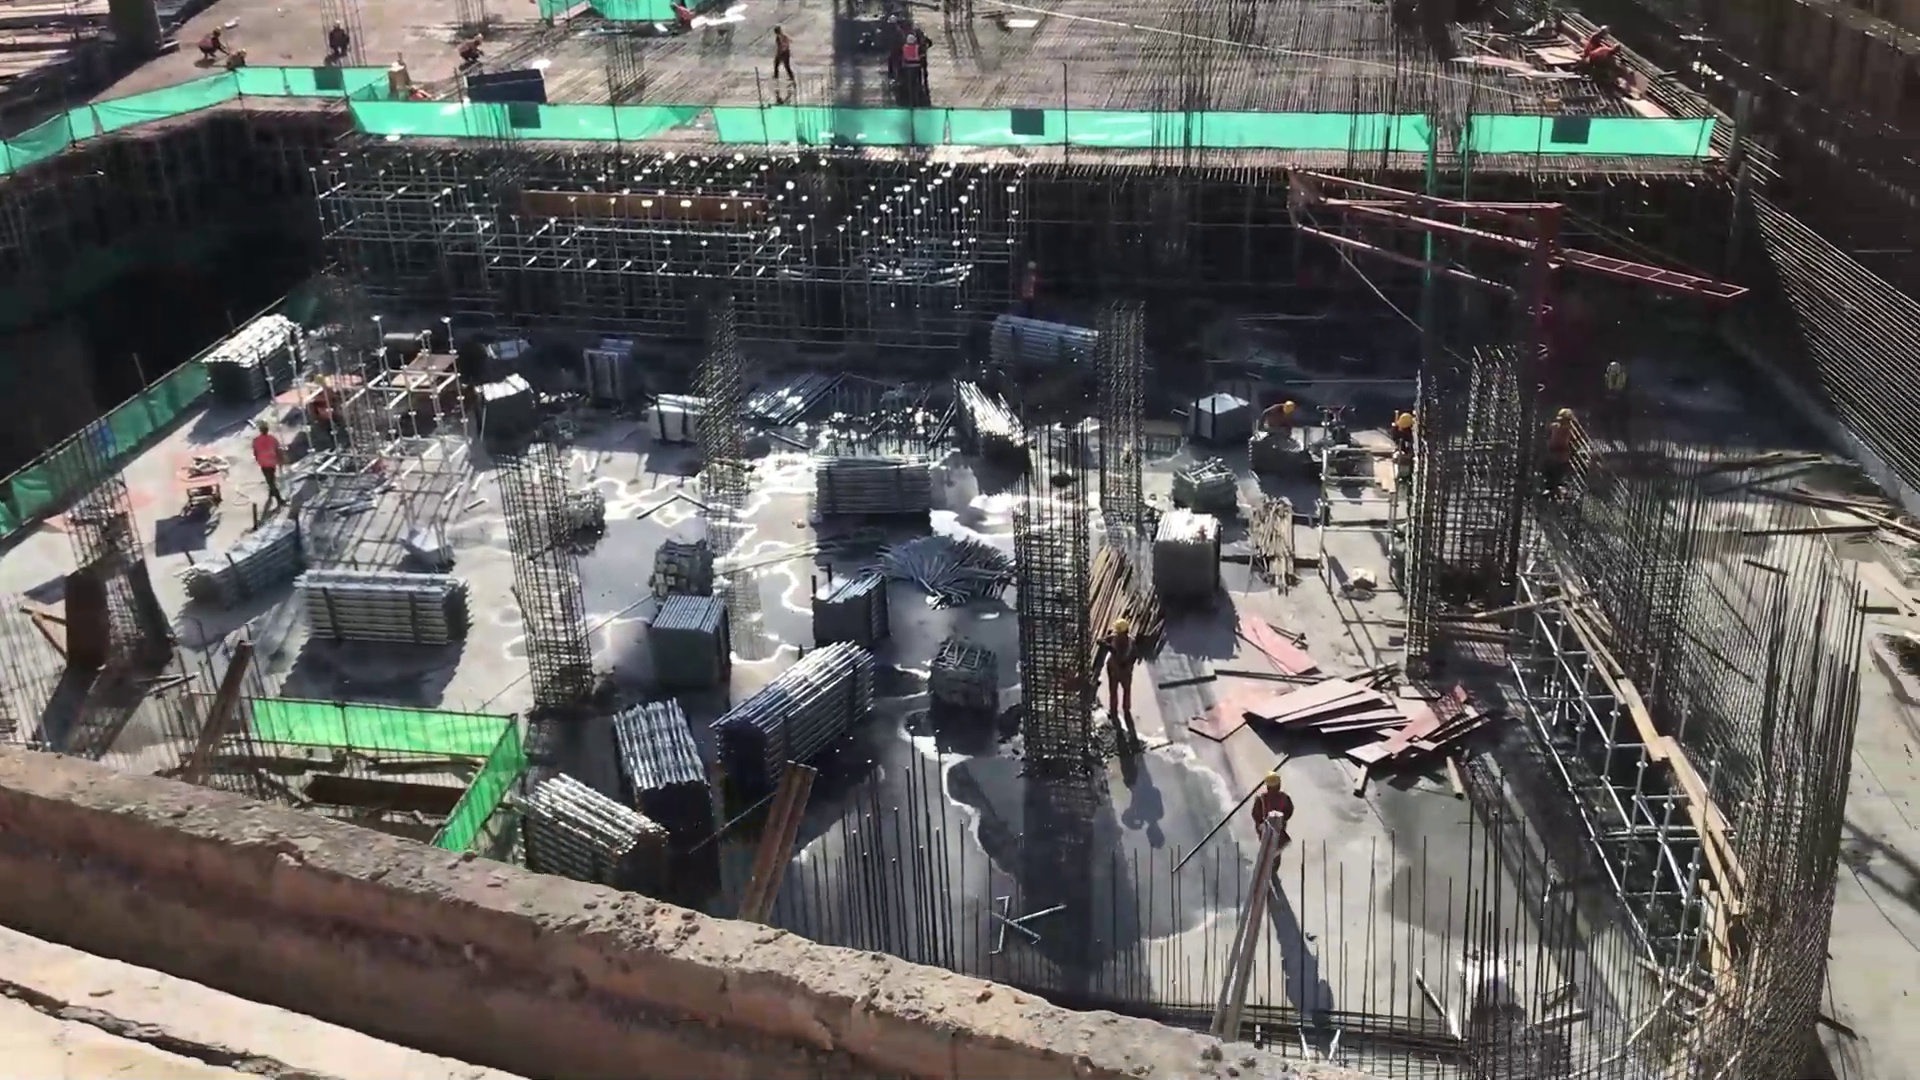board: (1249, 677, 1470, 769)
helmet: (1108, 617, 1134, 640), (1392, 412, 1418, 433), (1265, 771, 1282, 795), (1607, 360, 1626, 380), (1557, 407, 1574, 423), (258, 414, 269, 438), (1284, 396, 1299, 413), (329, 18, 346, 28), (211, 25, 224, 37), (904, 33, 915, 47), (473, 33, 484, 45)
person: (1086, 615, 1148, 752), (1247, 771, 1292, 886), (248, 416, 286, 526), (897, 21, 932, 114), (1601, 359, 1633, 455), (764, 16, 801, 92), (1256, 386, 1303, 445), (1548, 407, 1574, 506), (1595, 47, 1636, 108), (318, 15, 354, 67), (193, 25, 228, 74), (454, 33, 491, 70), (1582, 15, 1612, 56), (669, 1, 695, 38)
scaffold: (716, 626, 900, 796), (512, 775, 679, 906), (295, 562, 473, 661), (183, 502, 325, 616), (616, 685, 708, 831), (204, 301, 311, 412), (972, 310, 1109, 388), (811, 449, 937, 528), (797, 562, 905, 652), (1151, 504, 1229, 607), (645, 597, 739, 680), (955, 376, 1030, 467)
vest: (1258, 795, 1292, 838), (253, 433, 283, 473), (902, 43, 921, 70)
